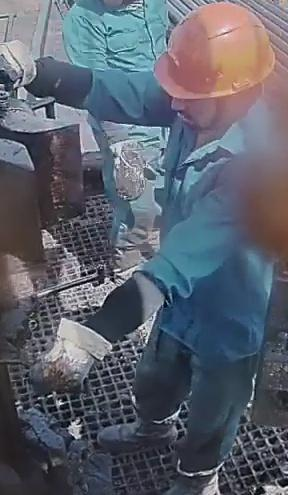gloves: (28, 317, 112, 396), (109, 136, 151, 204), (0, 39, 37, 89)
helmet: (152, 1, 276, 100)
vest: (131, 66, 285, 368), (60, 3, 175, 145)
